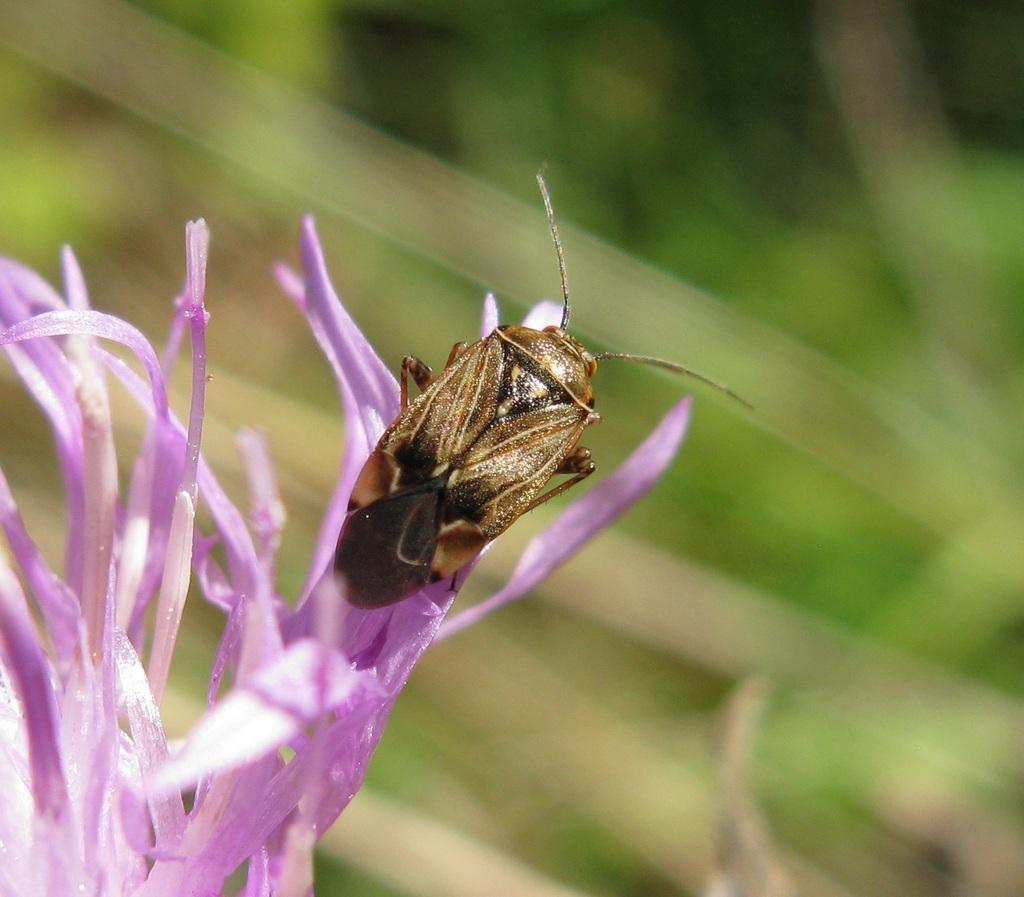plant_bugs: (266, 134, 760, 668)
